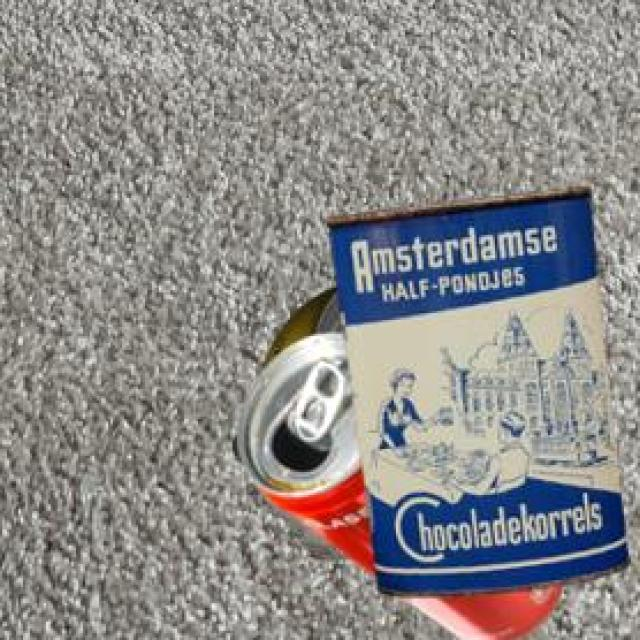logam: (323, 183, 625, 593), (236, 330, 558, 640), (229, 282, 344, 556)
